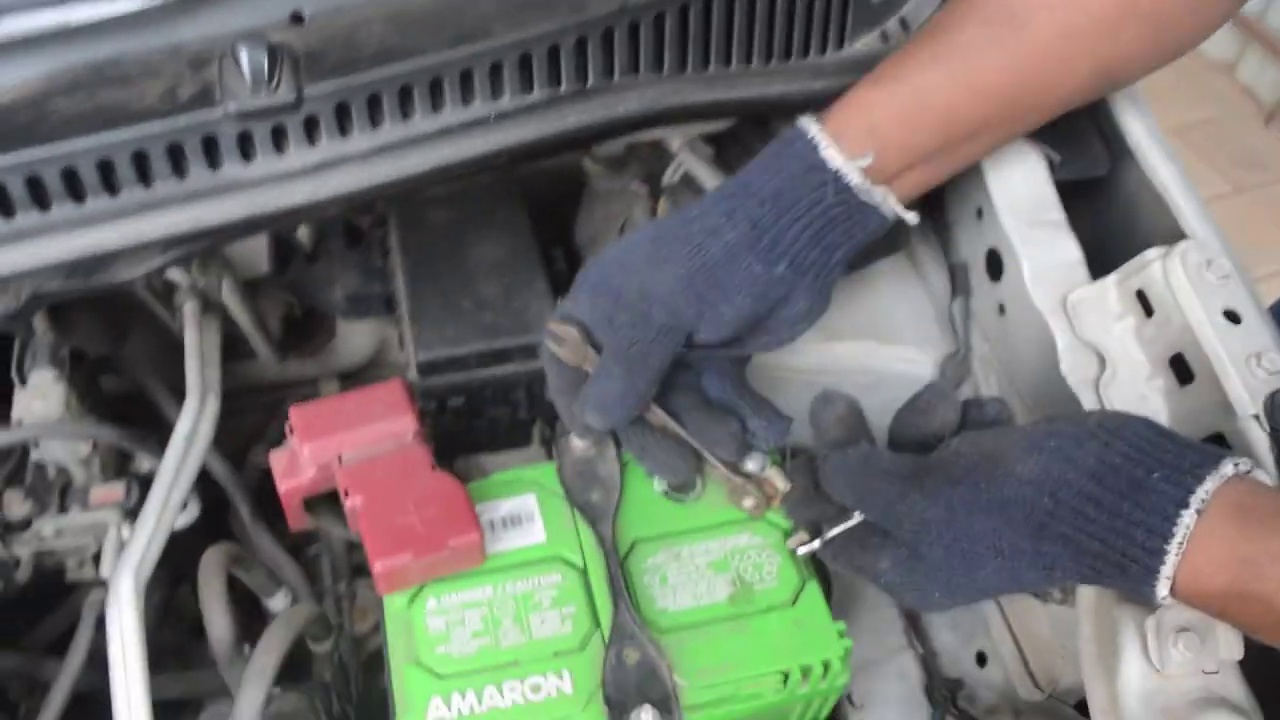battery: (333, 397, 860, 705)
neg_touched: (639, 332, 886, 546)
pos_connected: (341, 407, 487, 618)
